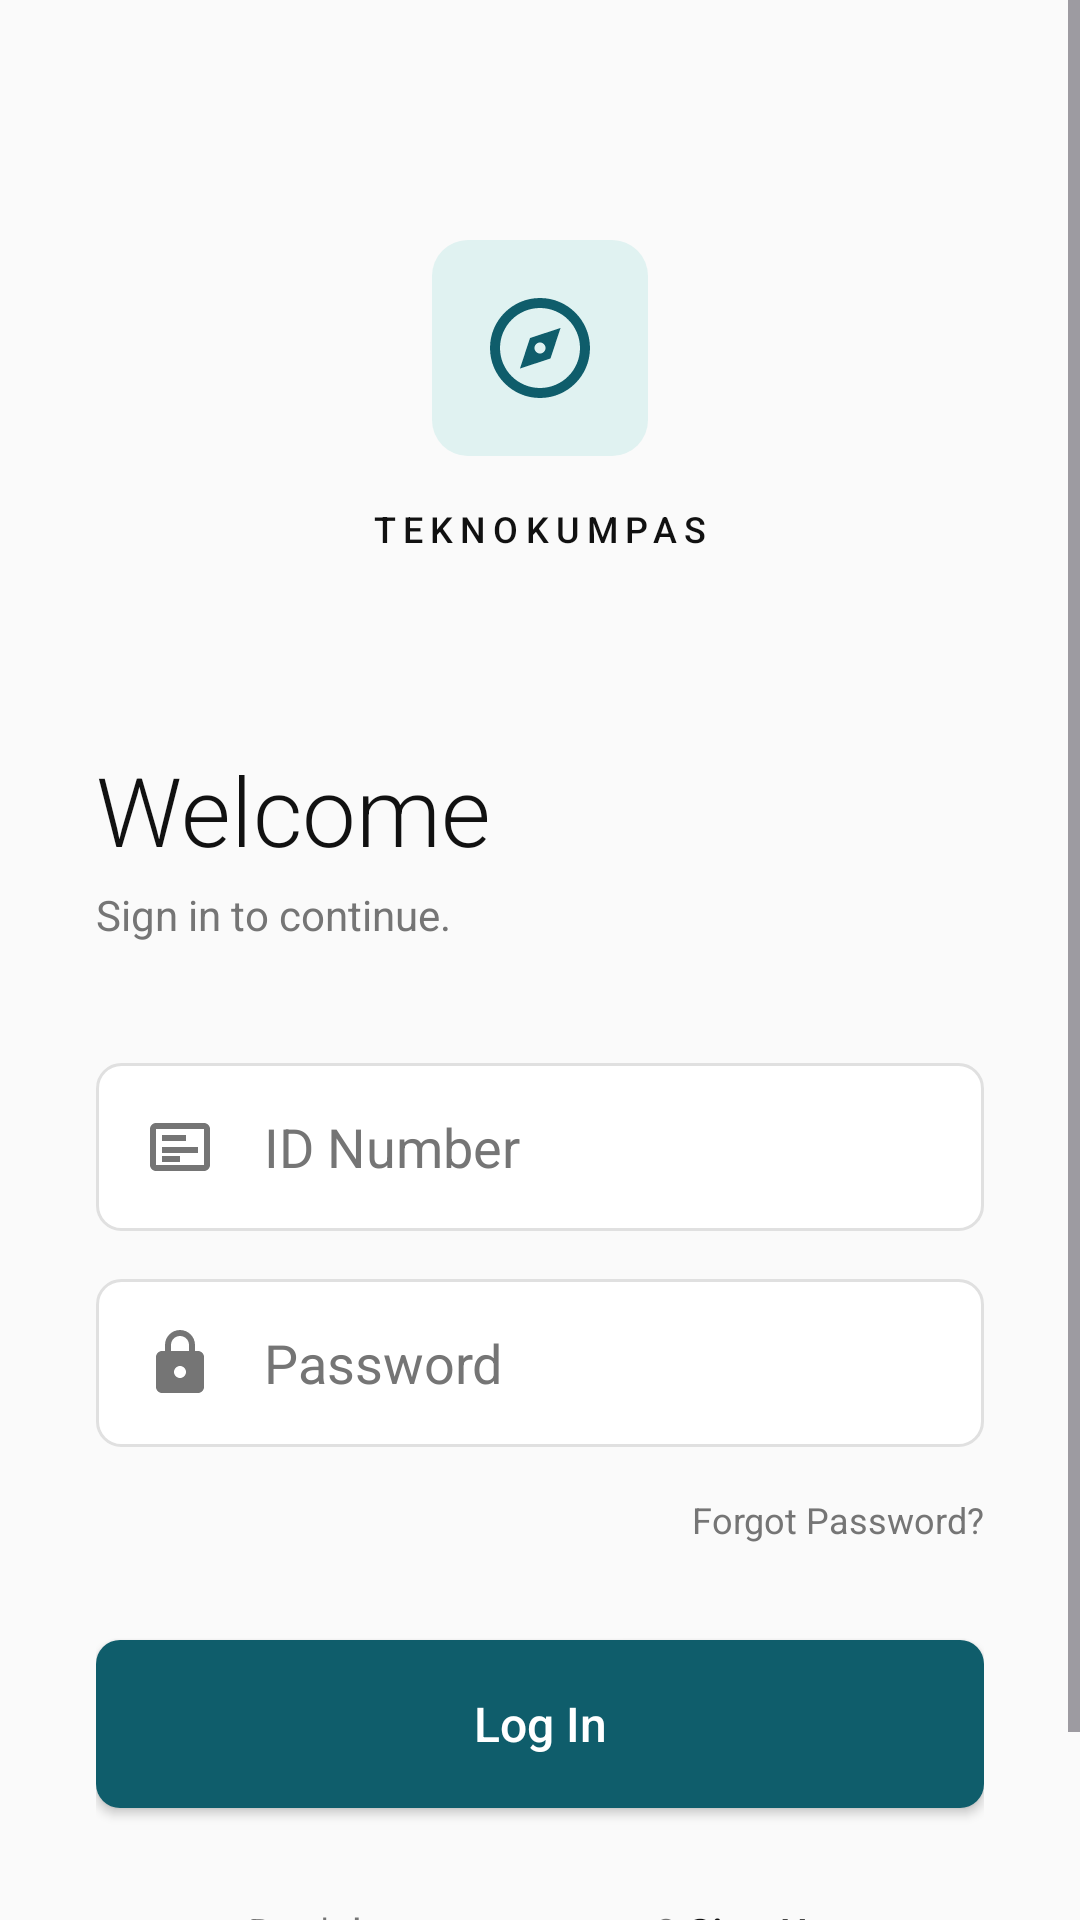

Icons on this 1080*1920 Android screen, each with the point to tap as (x=x, y=y):
modern compass: (x=540, y=348)
